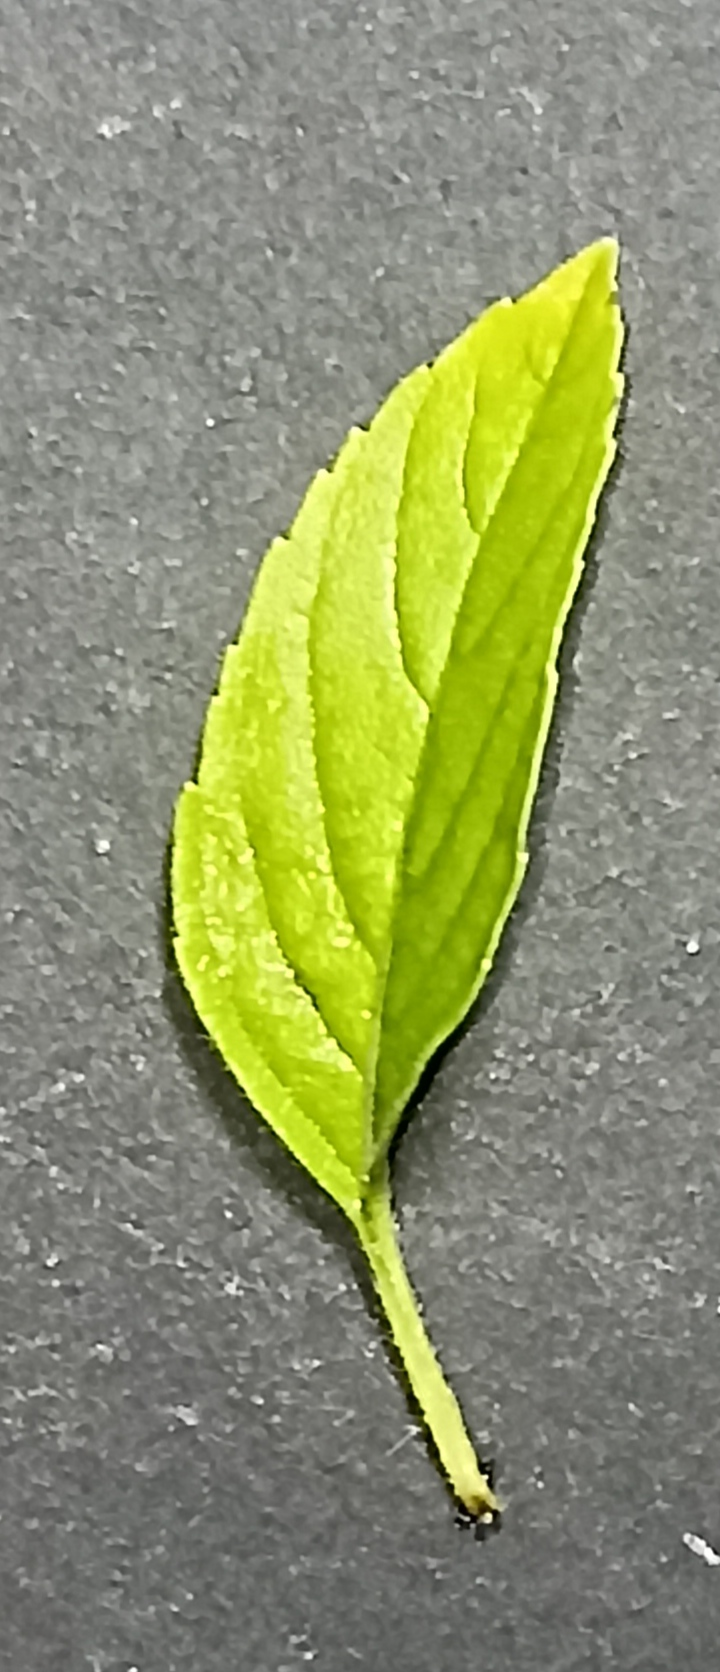Healthy: (149, 204, 641, 1158)
